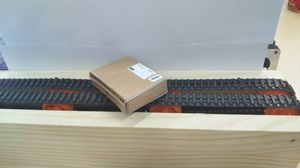box2: (88, 54, 168, 115)
